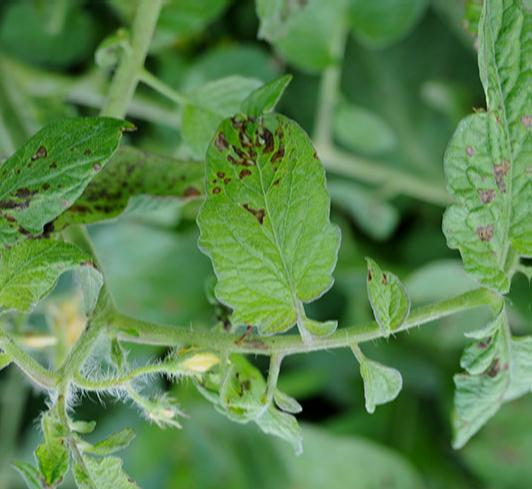Tomato leaf bacterial spot: (208, 72, 347, 333), (437, 0, 532, 278), (0, 91, 105, 292)
